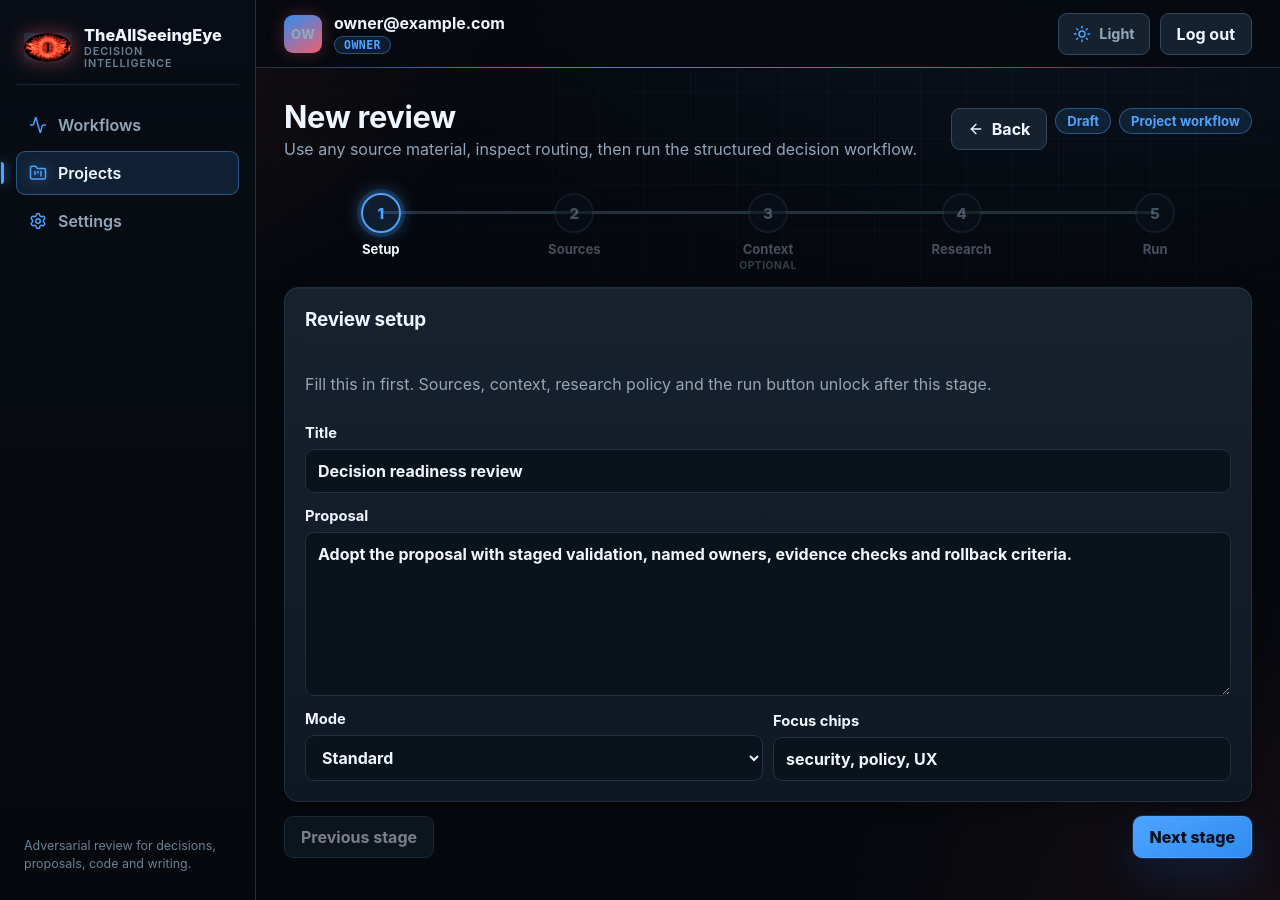
Test case: new review context packs › surfaces context-pack load errors
This screenshot has width=1280, height=900.
Step 1. Click the button "Next stage" → (1192, 837), box [1132, 816, 1252, 858]
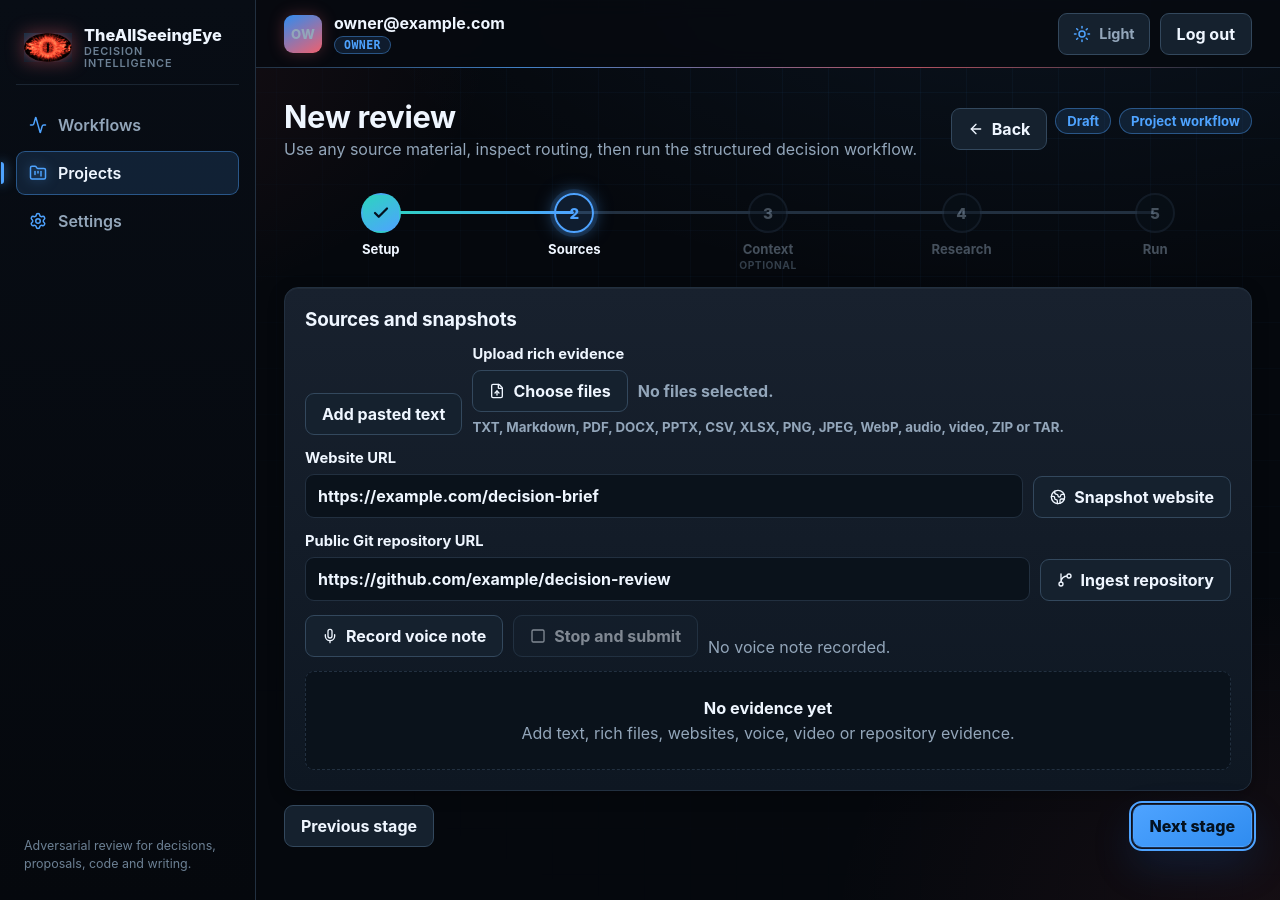
Step 2. Click the button "Next stage" → (1192, 826), box [1132, 805, 1252, 847]
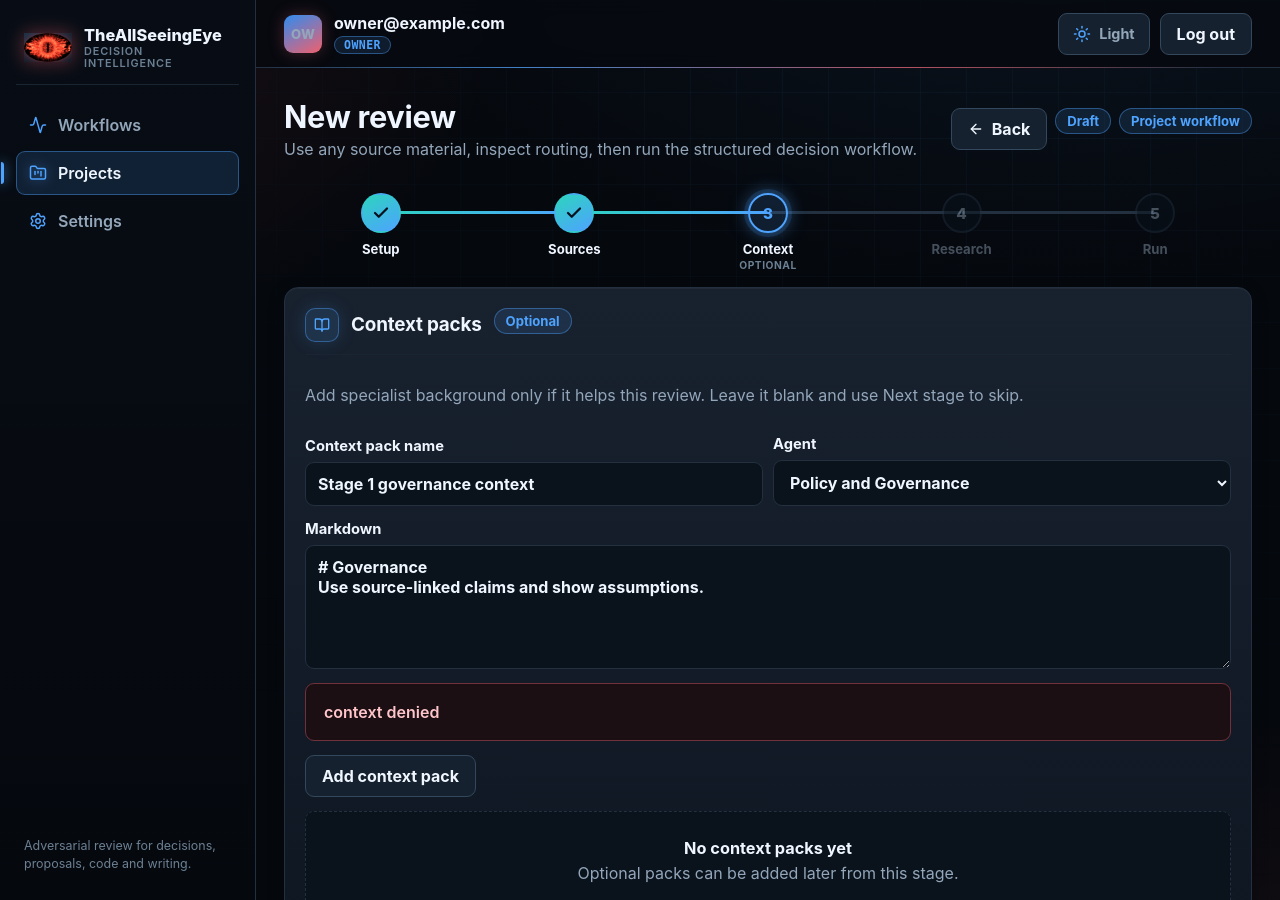
Expected: the message "context denied" is shown, [305, 683, 1231, 741]
